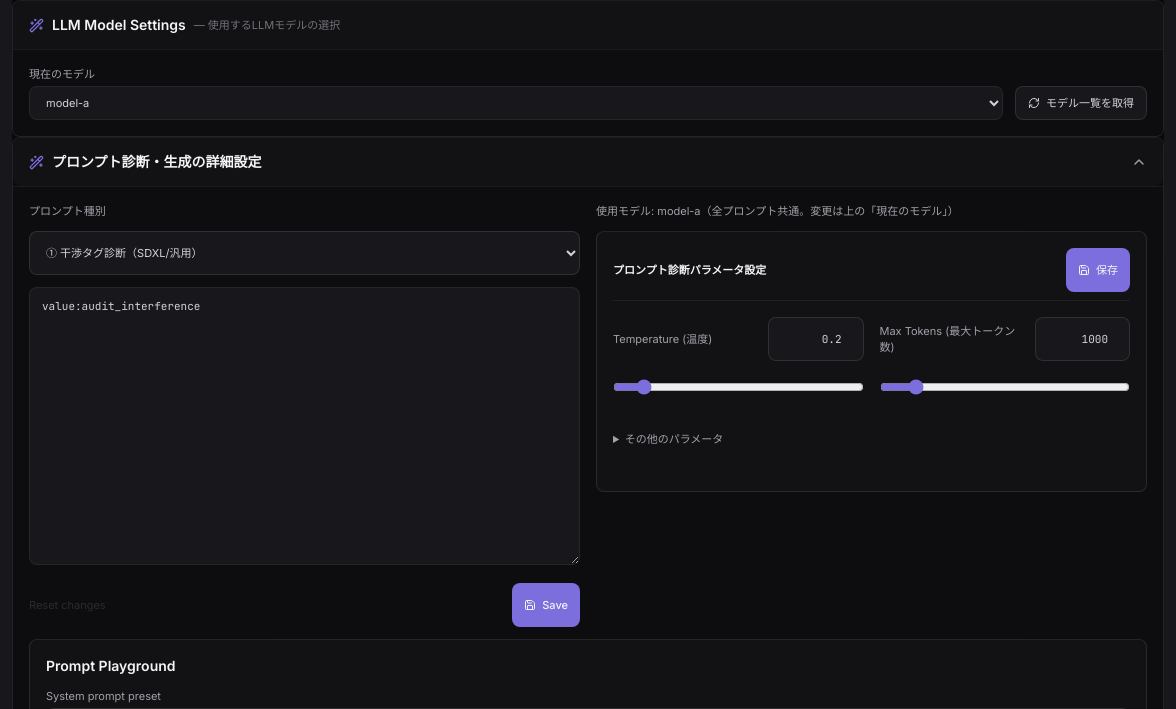
Test: LlmSettingsSection grouped contracts › unified prompt editor › [REQ-365/AC-5] links Temperature and Max Tokens to the selected type param group
Expected: the heading "プロンプト診断パラメータ設定" is shown, [613, 262, 766, 278]
Expected: the number field next to "Temperature (温度)" holds "0.2", [768, 317, 864, 361]
Select "⑤ Scene Generator プロンプト" in the dropdown labelled "プロンプト種別" at (304, 253), box [29, 231, 580, 275]
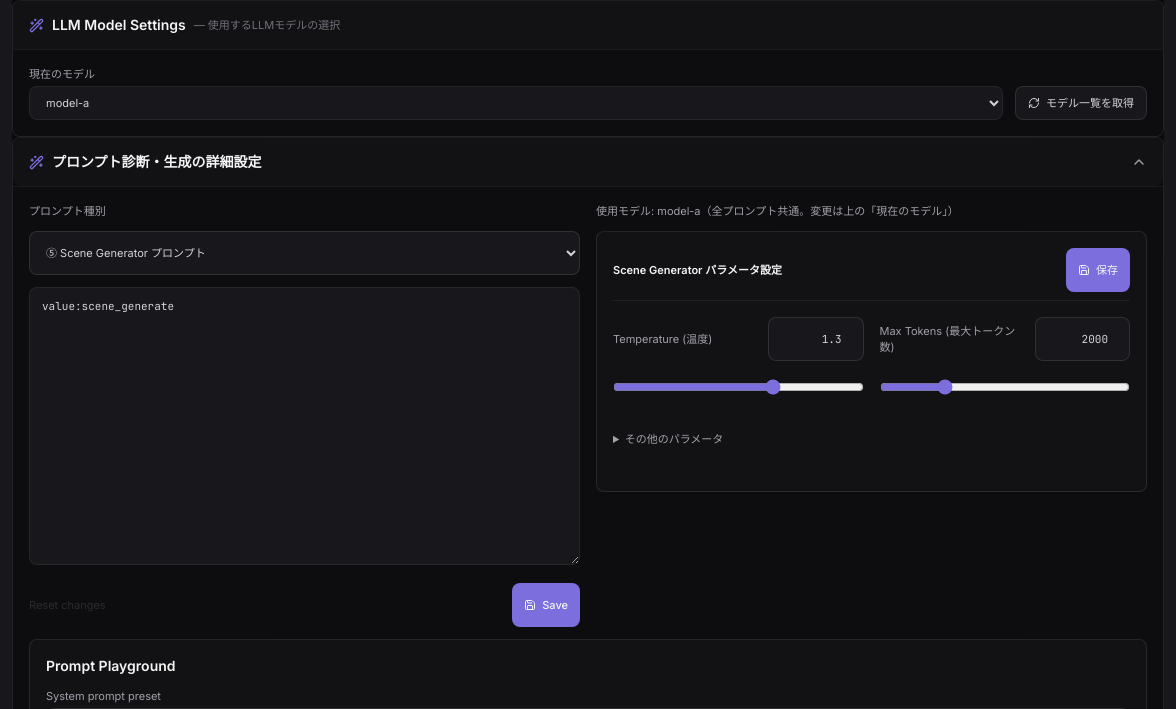
Expected: the number field next to "Max Tokens (最大トークン数)" holds "2000", [1036, 317, 1130, 361]
Expected: the number field next to "Temperature (温度)" holds "1.3", [768, 317, 864, 361]
